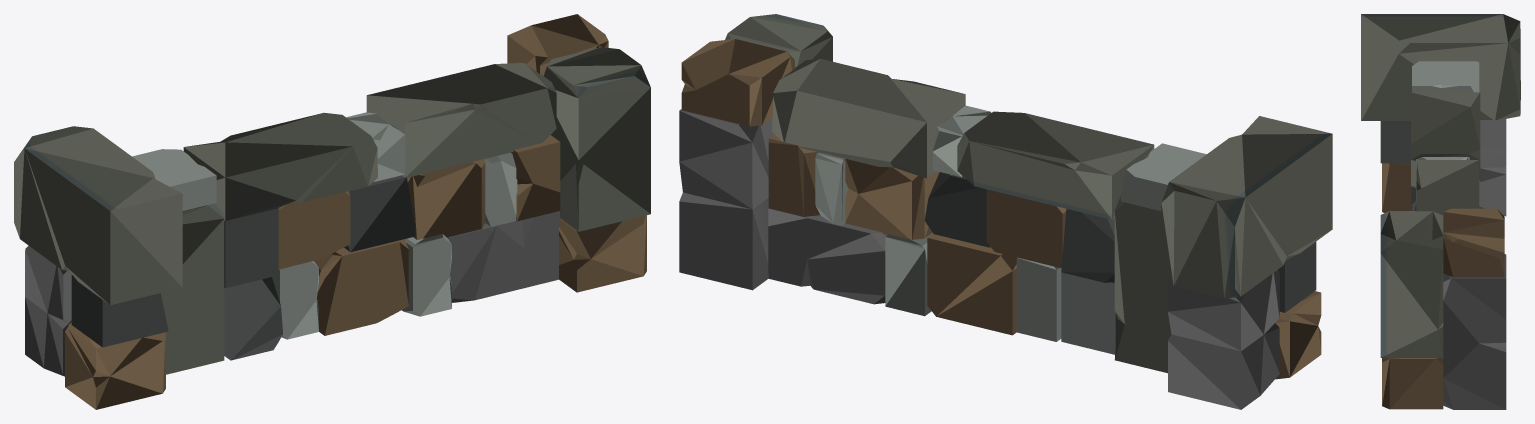
File: ZLP_Build_D_34.FBX
3 renders of one model, left to right at view 1: azimuth 30°, elevation 25°; view 2: azimuth 150°, elevation 25°; view 3: azimuth 270°, elevation 25°, orthographic. The views are drawn at different scales.
Visible parts, largest first — view 1: ZLP_Build_D_34; view 2: ZLP_Build_D_34; view 3: ZLP_Build_D_34.
Boxes of the visible parts, x1=… form: ZLP_Build_D_34: x1=14, y1=14, x2=650, y2=409; ZLP_Build_D_34: x1=679, y1=14, x2=1332, y2=409; ZLP_Build_D_34: x1=1361, y1=14, x2=1520, y2=409.
Size of the model in its own units: 324 by 115 by 97.18.
